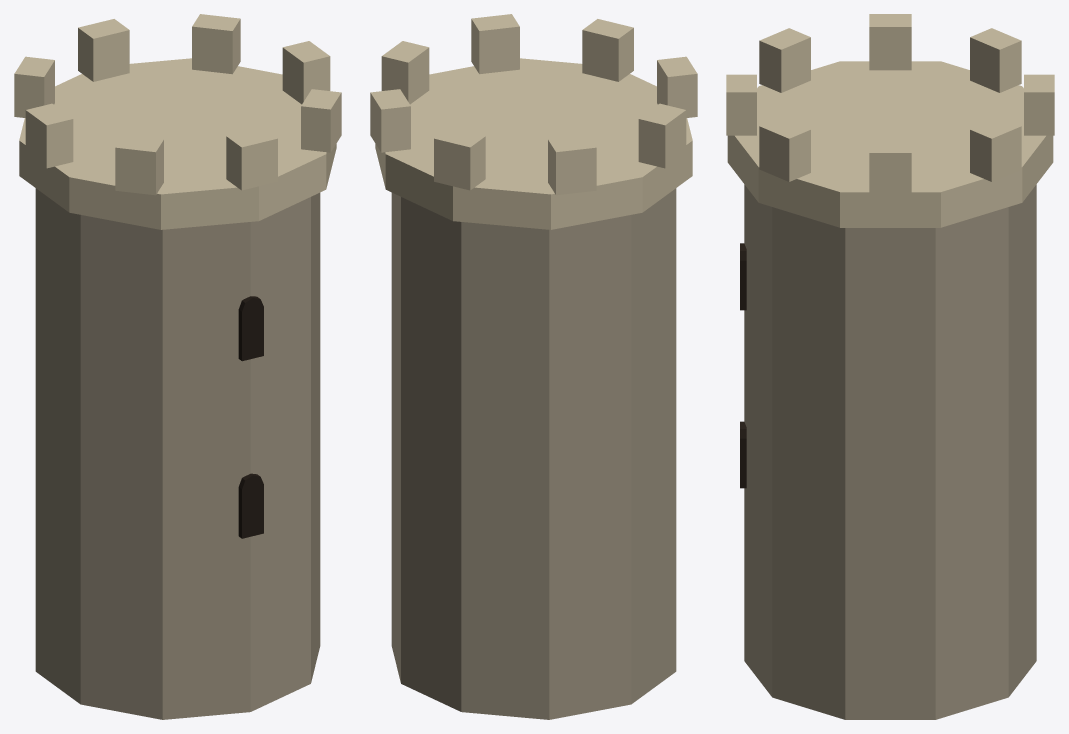
File: siege_wall_tower.glb
3 renders of one model, left to right at view 1: azimuth 30°, elevation 25°; view 2: azimuth 150°, elevation 25°; view 3: azimuth 270°, elevation 25°, orthographic.
Visible parts, largest first — view 1: siege_wall_tower; view 2: siege_wall_tower; view 3: siege_wall_tower.
Boxes of the visible parts, x1=… form: siege_wall_tower: x1=14, y1=14, x2=341, y2=719; siege_wall_tower: x1=370, y1=14, x2=697, y2=719; siege_wall_tower: x1=726, y1=14, x2=1054, y2=719.
Size of the model in its own units: 5.85 by 11.35 by 5.85.
